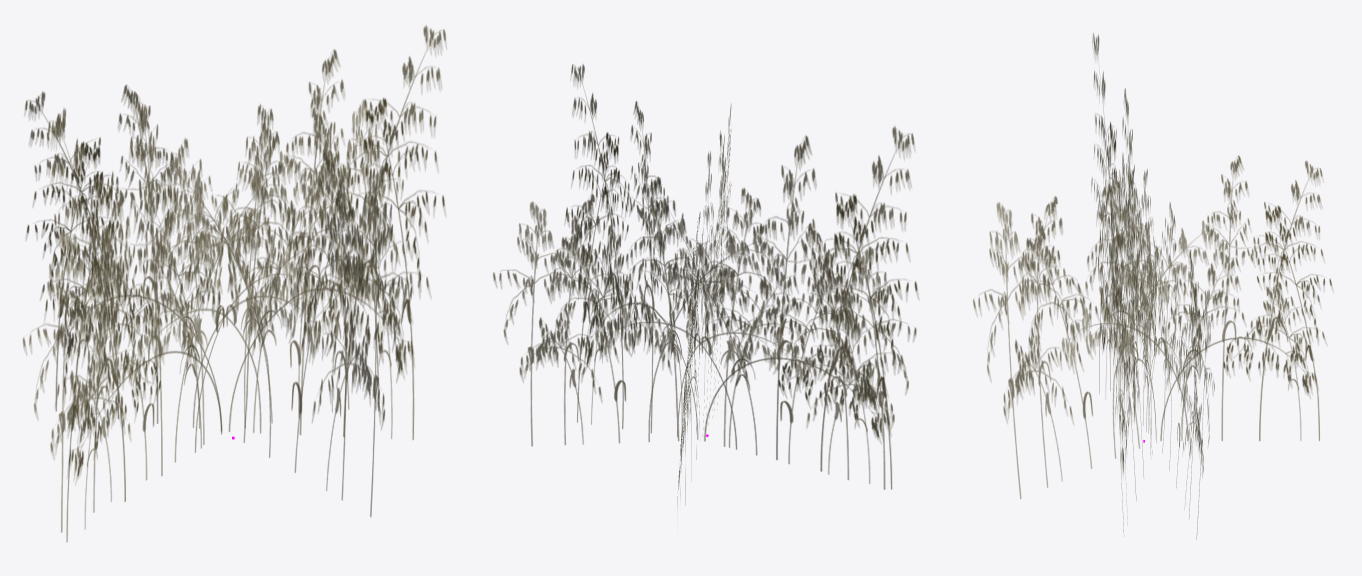
File: Mveg9.glb
The picture shows the model from 3 angles, left to right: view 1: azimuth 30°, elevation 25°; view 2: azimuth 150°, elevation 25°; view 3: azimuth 270°, elevation 25°; orthographic projection. The views are drawn at different scales.
Visible parts, largest first — view 1: 01 Mesh0; view 2: 01 Mesh0; view 3: 01 Mesh0.
Part boxes in pixels (x1,y1,x2,y2): 01 Mesh0: (23,25,446,542); 01 Mesh0: (493,64,918,505); 01 Mesh0: (973,33,1333,539).
Size of the model in its own units: 3.64 by 3.51 by 3.33.
2 materials, 1 textured.
